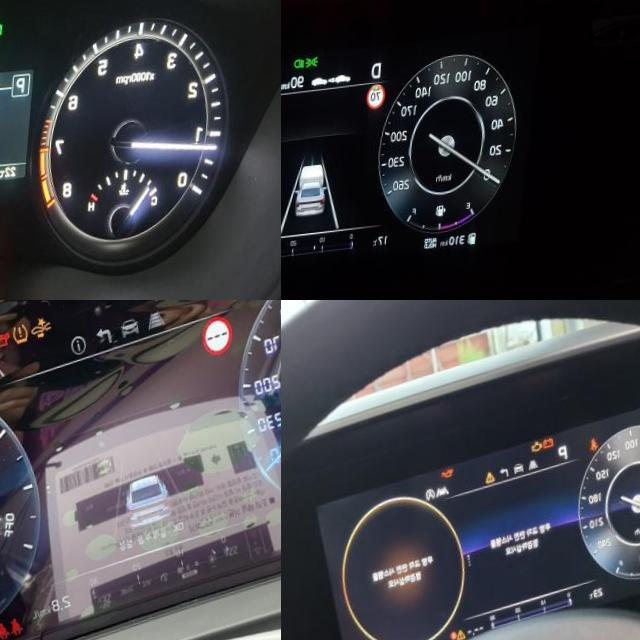Central Warning lamp: (489, 474, 502, 489)
LaneCenteringOff: (0, 363, 11, 387)
Low beam: (297, 62, 309, 75), (0, 27, 8, 43)
SideLamp: (309, 60, 323, 74)
